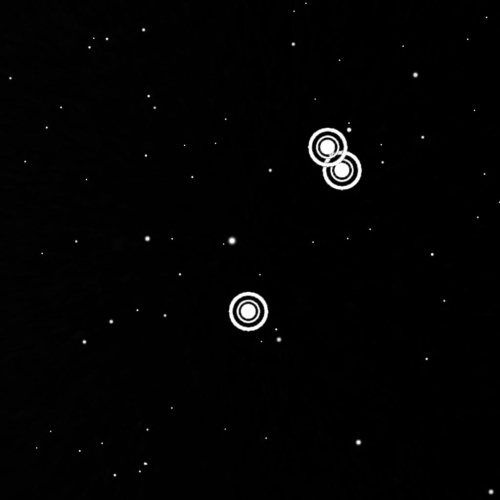canis_minor: (220, 119, 373, 345)
